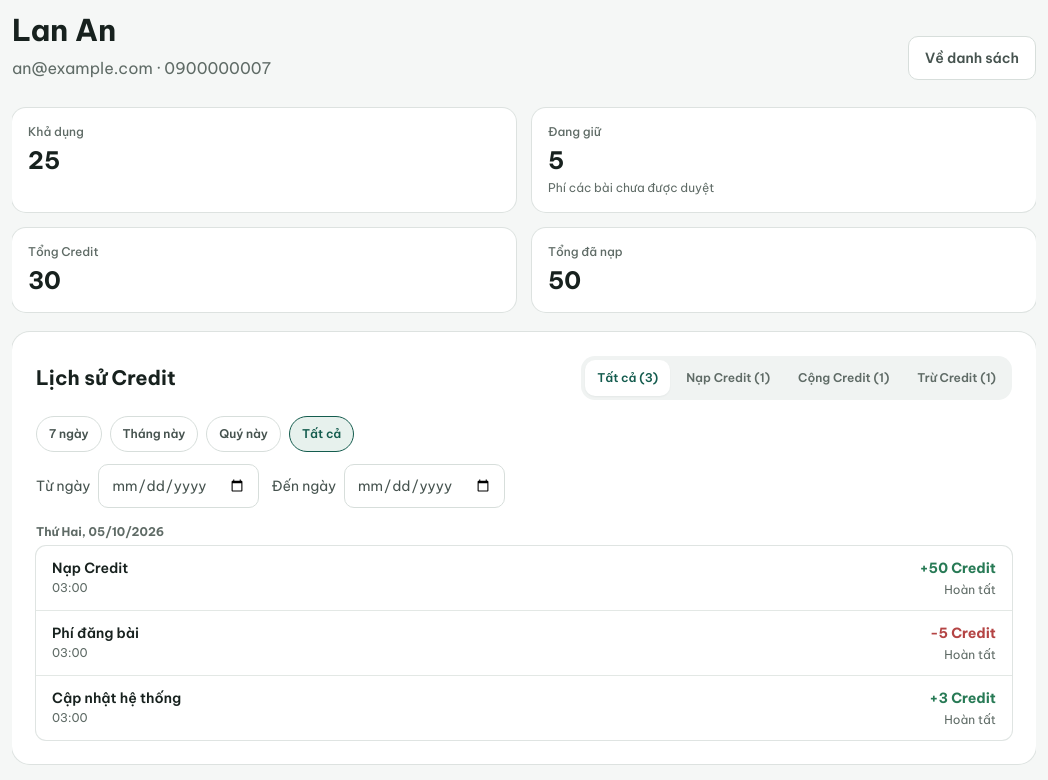
Test: AdminFinanceUserDetail › hiện số dư và lịch sử chia theo nạp, cộng và trừ Credit như trang Credit của người dùng
Expected: the heading "Lan An" is shown, [12,11,116,49]
Expected: the tab "Tất cả (3)" is shown, [585,360,670,396]
Click the tab "Trừ Credit (1)". click: coordinates (957, 378)
box: [905,360,1008,396]
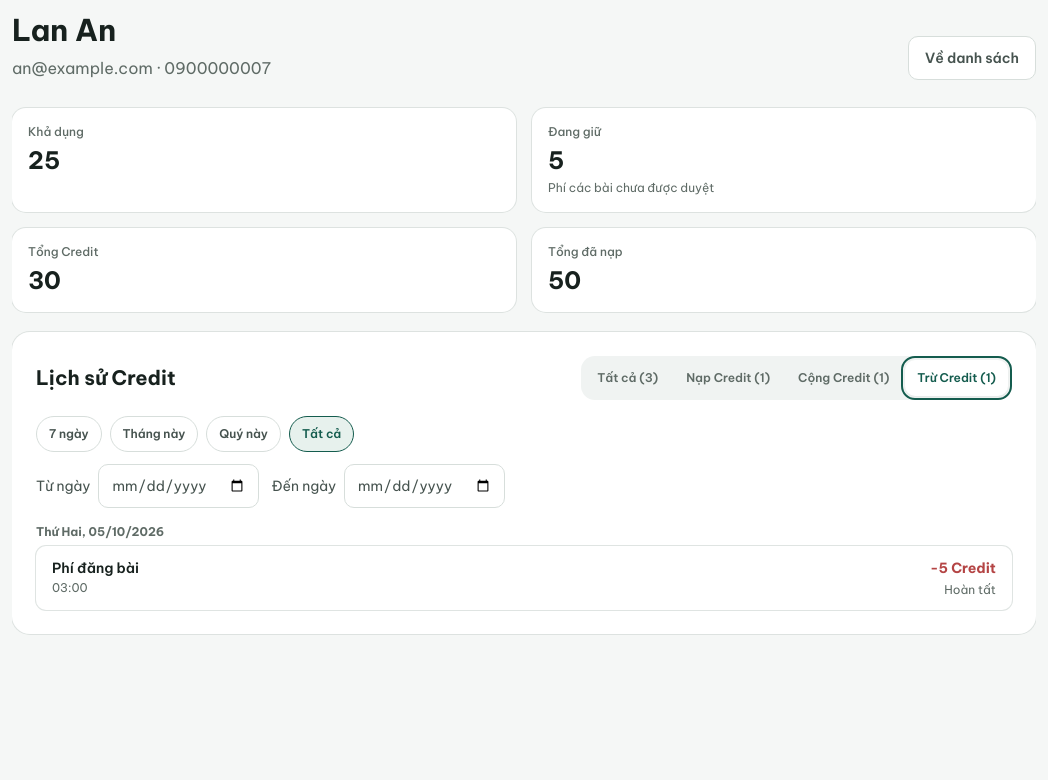
Expected: the text "Phí đăng bài" is shown, [52,559,139,577]
Result: the button "Cập nhật hệ thống" is gone
